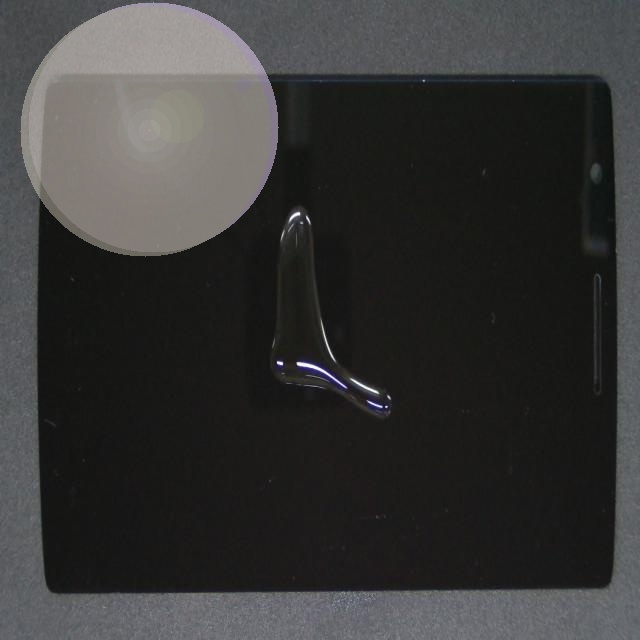oil: (238, 213, 553, 545)
